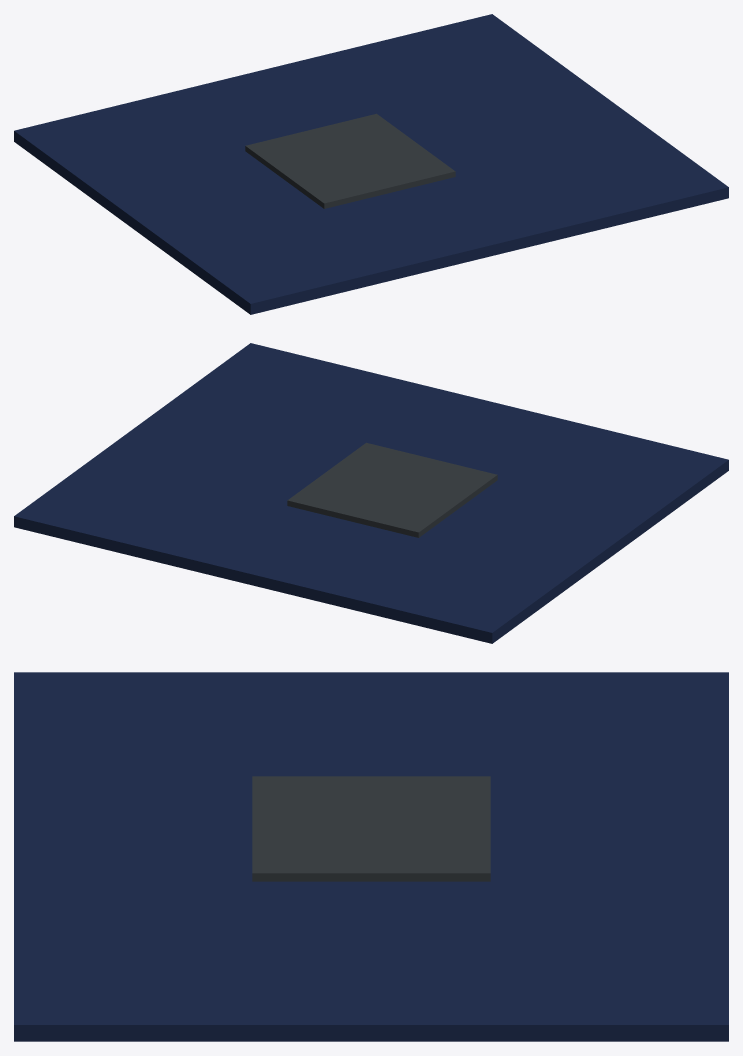
Rendered from swat_truck_body_roof.glb.
3 renders of one model, top to bottom at view 1: azimuth 30°, elevation 25°; view 2: azimuth 150°, elevation 25°; view 3: azimuth 270°, elevation 25°, orthographic. The views are drawn at different scales.
Parts seen in each view (by area): view 1: body:compound; view 2: body:compound; view 3: body:compound.
Part boxes in pixels (<box>): body:compound: <box>14,14,728,314</box>; body:compound: <box>14,343,728,643</box>; body:compound: <box>14,672,728,1041</box>.
Bounding box in the file's own units: 2.84 × 0.0938 × 2.44.
